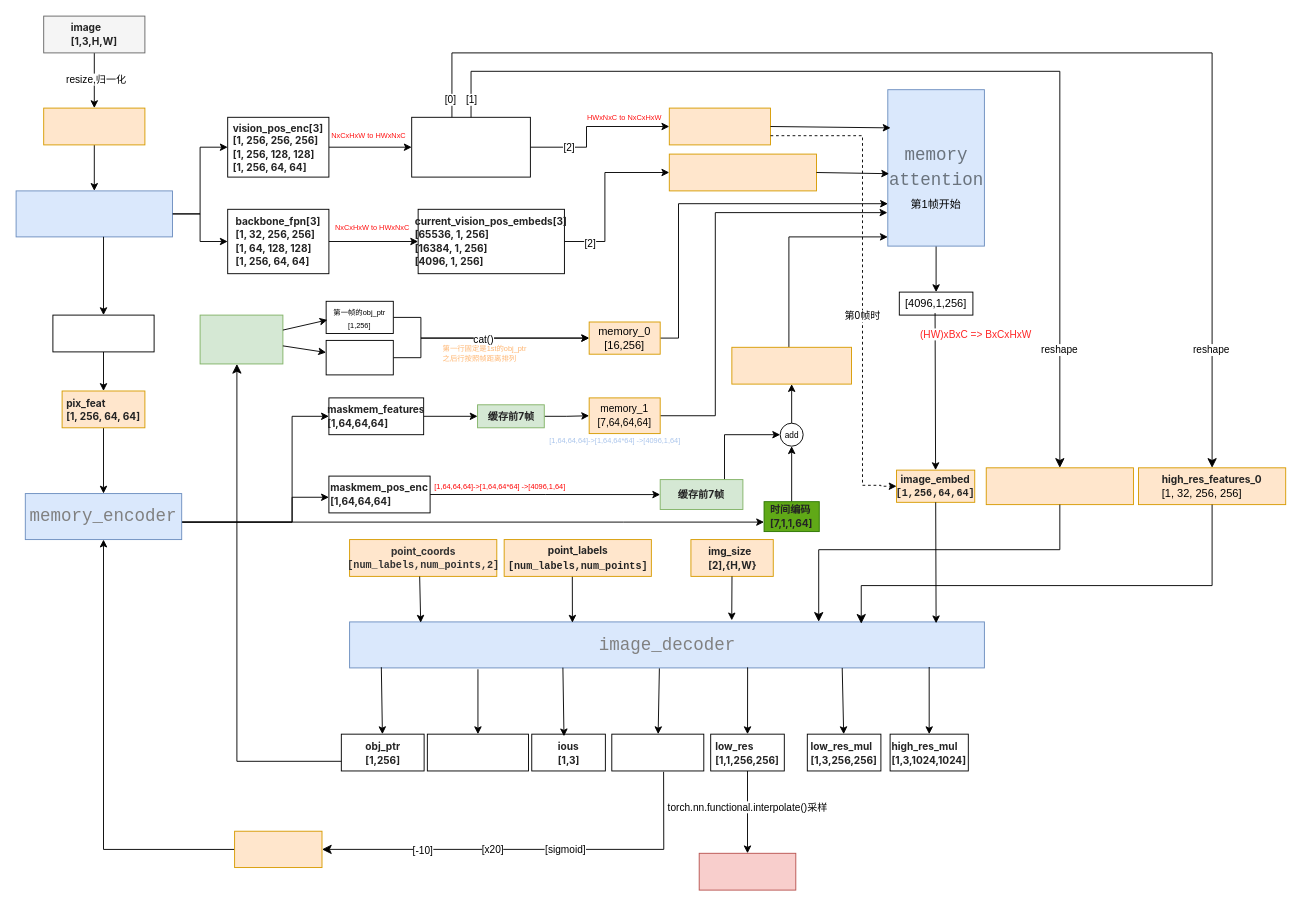
This 1302x906 diagram has some shape labels left out. The shapes that lost their labels are listed below. From the top down, each one's centre as x and y in pixels, then its label:
At [94,126]: "image [1,3,1024,1024]".
At [470,146]: "current_vision_feats [3] [65536,1,32] [16384, 1, 64] [4096, 1, 256]".
At [719,126]: "current_vision_feats [1, 256, 64, 64]".
At [742,172]: "current_vision_pos_embeds [4096, 1, 256]".
At [93,213]: "image_encoder".
At [103,333]: "vision_features [1,256,64,64]".
At [241,339]: "obj_ptr缓存".
At [359,357]: "最近15帧的obj_ptr [15,256]".
At [791,365]: "memory_pos_embed [7 *4096+64 , 1, 64]".
At [1059,486]: "high_res_features_1 [1, 64, 128, 128]".
At [477,752]: "object_score_logits [1,1]".
At [657,752]: "high_res [1,1,1024,1024]".
At [278,849]: "mask_for_mem [1, 1, 1024, 1024]".
At [747,871]: "video_res_masks [1,H,W]".
